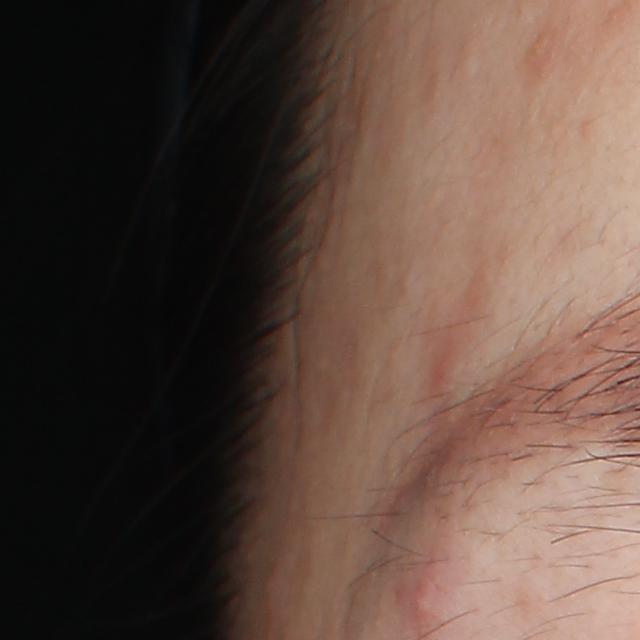papule: (410, 560, 451, 631)
